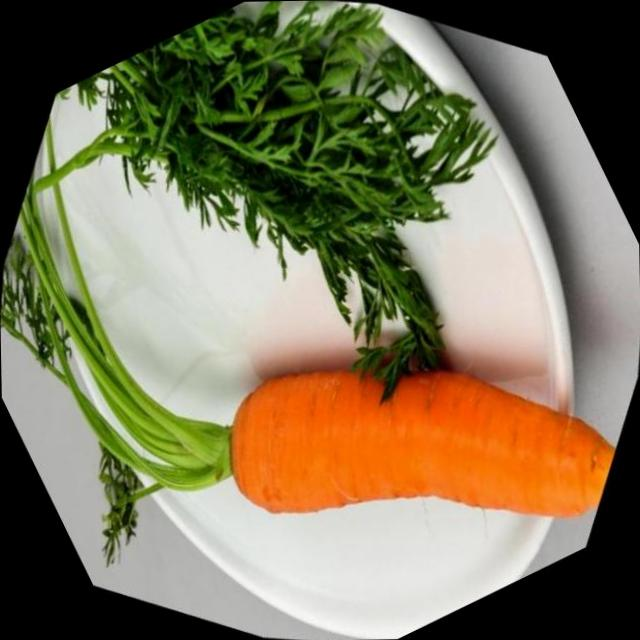carrot: (231, 370, 612, 515)
